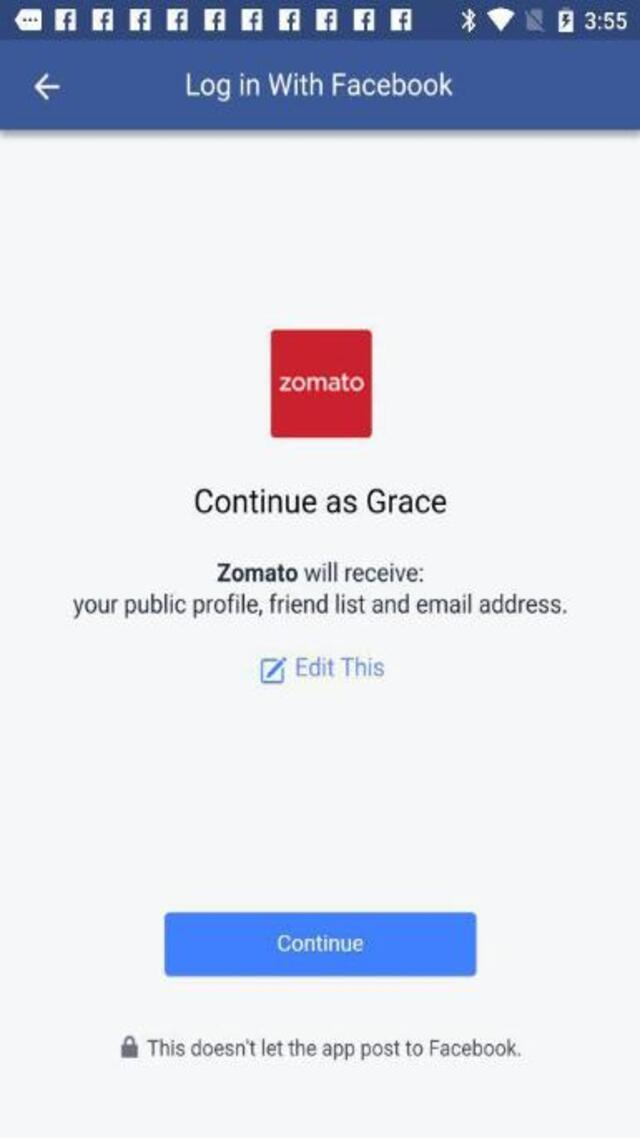Icon: (260, 657, 288, 684), (35, 74, 58, 100), (120, 1033, 138, 1058)
Image: (270, 328, 372, 436)
Text: (74, 594, 568, 619), (185, 72, 453, 102), (148, 1037, 520, 1058), (196, 488, 447, 516), (217, 562, 426, 583), (295, 657, 383, 678)
TextButton: (163, 910, 474, 975)
